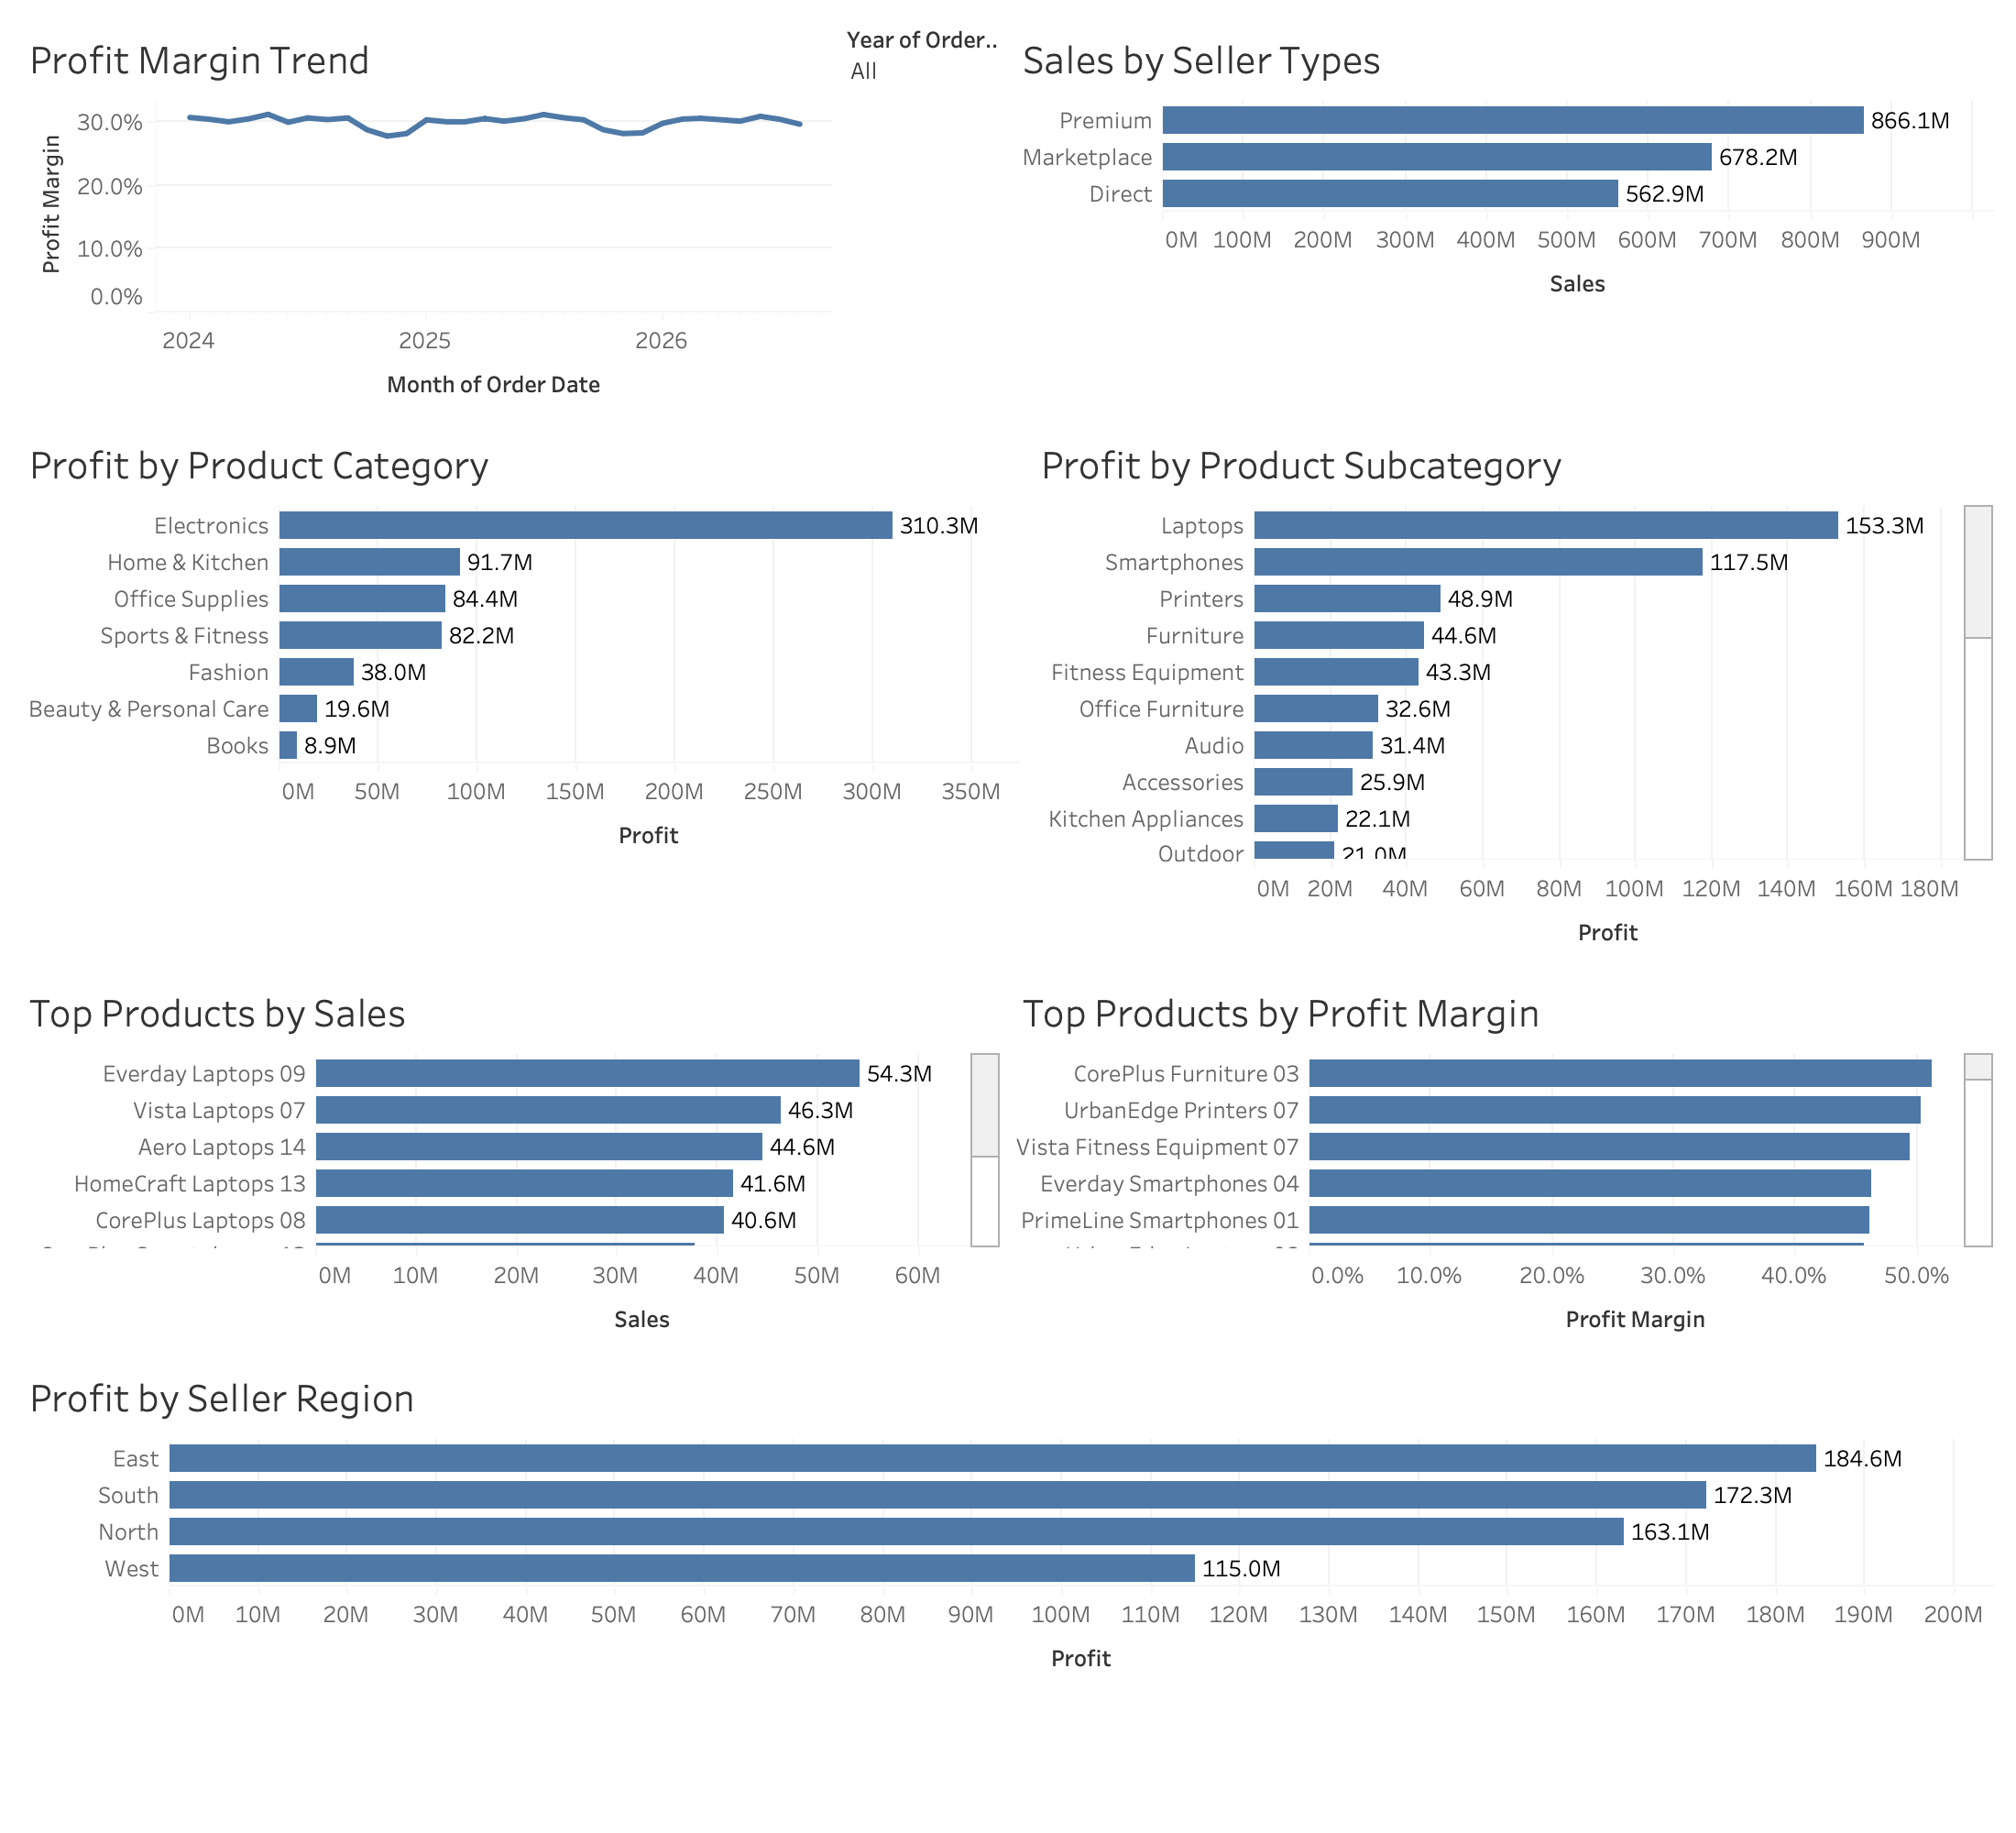

Layout of this report page (visuals, bound fields, positions):
{"tool":"tableau","page":{"name":"Profitability & Top Performers","canvas":[1100,1000],"ordinal":2},"visuals":[{"type":"worksheet","title":"Profit Margin Trend","mark":"Automatic","rows":["Calculation_1203932672573440"],"cols":["Order_Date"],"box":[8,8,450,220.9]},{"type":"filter","title":"Profit Margin Trend","param":"[federated.08g3x1d0i65m8o1e076fn1nbmnd8].[yr:Order_Date:ok]","box":[458,8,92,220.9]},{"type":"worksheet","title":"Sales by Seller Types","mark":"Automatic","rows":["Seller_Type"],"cols":["Sales"],"box":[550,8,542,220.9]},{"type":"worksheet","title":"Profit by Product Category","mark":"Automatic","rows":["Category"],"cols":["Profit"],"box":[8,228.9,552,298.7]},{"type":"worksheet","title":"Profit by Product Subcategory","mark":"Automatic","rows":["Subcategory"],"cols":["Profit"],"box":[560,228.9,532,298.7]},{"type":"worksheet","title":"Top Products by Sales","mark":"Automatic","rows":["Product_Name"],"cols":["Sales"],"box":[8,527.6,542,210.9]},{"type":"worksheet","title":"Top Products by Profit Margin","mark":"Automatic","rows":["Product_Name"],"cols":["Calculation_1203932672573440"],"box":[550,527.6,542,210.9]},{"type":"worksheet","title":"Profit by Seller Region","mark":"Automatic","rows":["Seller_Region"],"cols":["Profit"],"box":[8,738.5,1084,253.5]}]}

Visuals, with their boxes in screenshot pixels (x1, y1, x2, y2), scaled from the page's 1100x1000 canvas onto the 2016x1833 screenshot:
"Profit Margin Trend" worksheet: [15,15,839,420]
"Profit Margin Trend" filter: [839,15,1008,420]
"Sales by Seller Types" worksheet: [1008,15,2001,420]
"Profit by Product Category" worksheet: [15,420,1026,967]
"Profit by Product Subcategory" worksheet: [1026,420,2001,967]
"Top Products by Sales" worksheet: [15,967,1008,1354]
"Top Products by Profit Margin" worksheet: [1008,967,2001,1354]
"Profit by Seller Region" worksheet: [15,1354,2001,1818]
